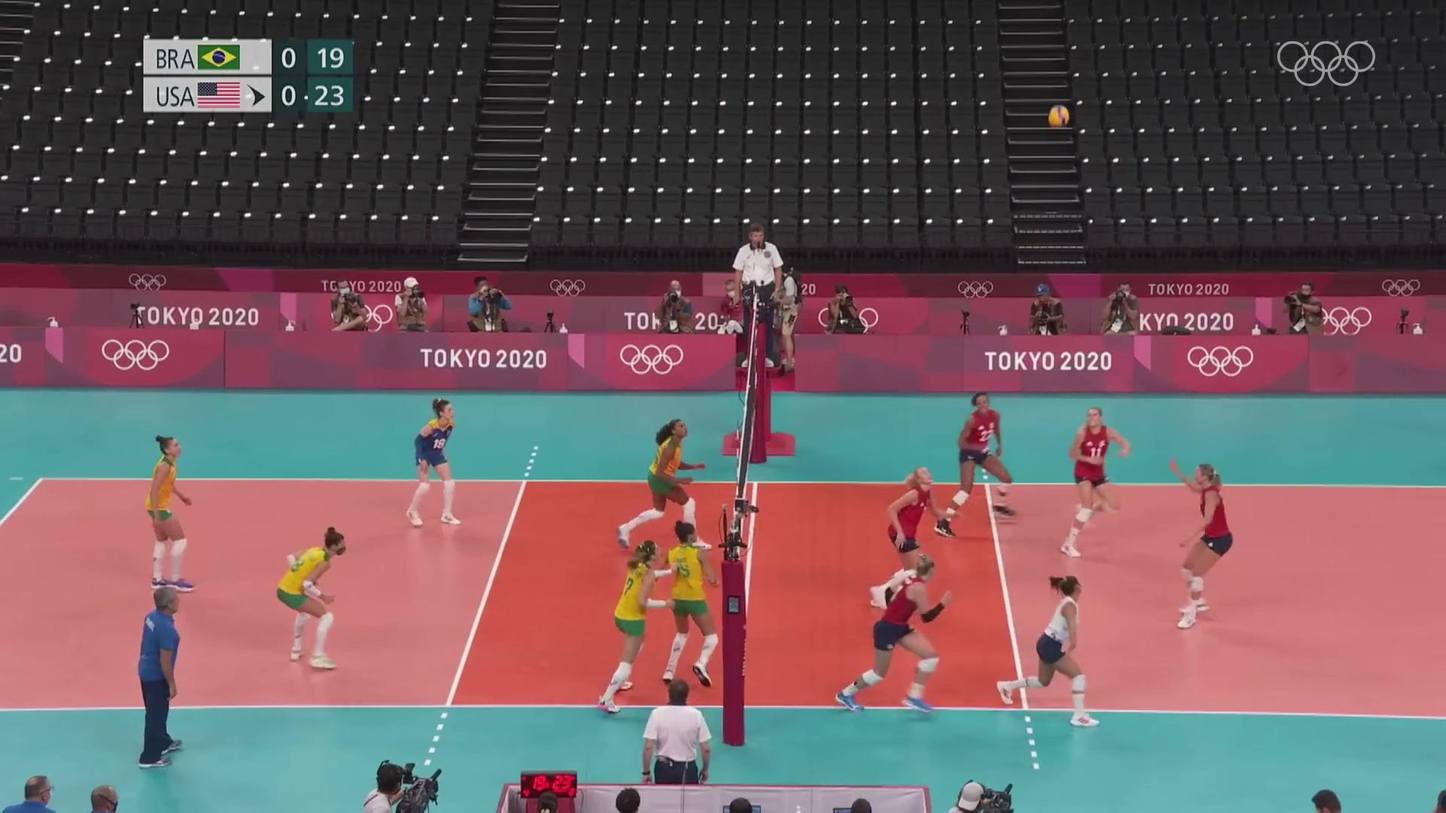player: (836, 556, 948, 711), (994, 572, 1104, 729), (600, 540, 674, 718), (617, 417, 709, 552), (934, 394, 1016, 534), (867, 467, 940, 612), (1168, 464, 1232, 627), (1059, 406, 1125, 561), (275, 529, 349, 666), (662, 519, 721, 687), (141, 437, 197, 592), (403, 397, 462, 528)
refree: (620, 677, 713, 782), (734, 229, 790, 369)
